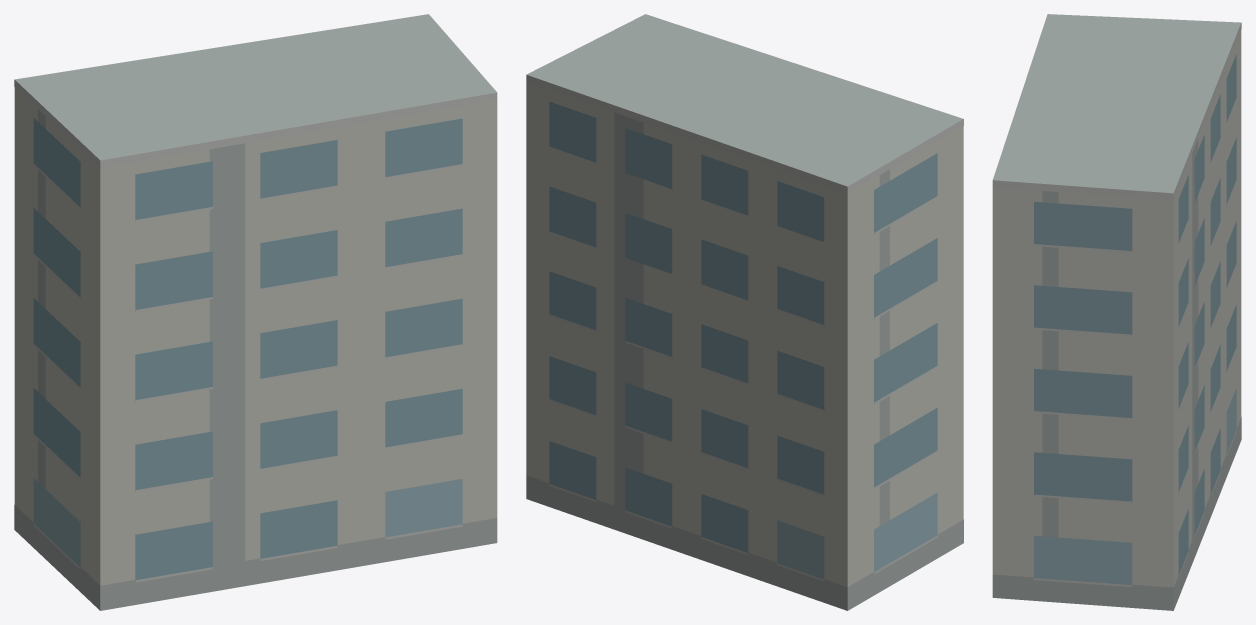
The model's file is survey-upis-32998186.glb.
The picture shows the model from 3 angles, left to right: view 1: azimuth 30°, elevation 25°; view 2: azimuth 150°, elevation 25°; view 3: azimuth 270°, elevation 25°; orthographic projection. The views are drawn at different scales.
Parts seen in each view (by area): view 1: survey-upis-32998186.tmp; view 2: survey-upis-32998186.tmp; view 3: survey-upis-32998186.tmp.
Boxes of the visible parts, x1,y1,x2,y2 form: survey-upis-32998186.tmp: [14, 14, 497, 610]; survey-upis-32998186.tmp: [526, 14, 963, 610]; survey-upis-32998186.tmp: [992, 14, 1241, 610].
Size of the model in its own units: 13.27 by 14.4 by 7.78.
